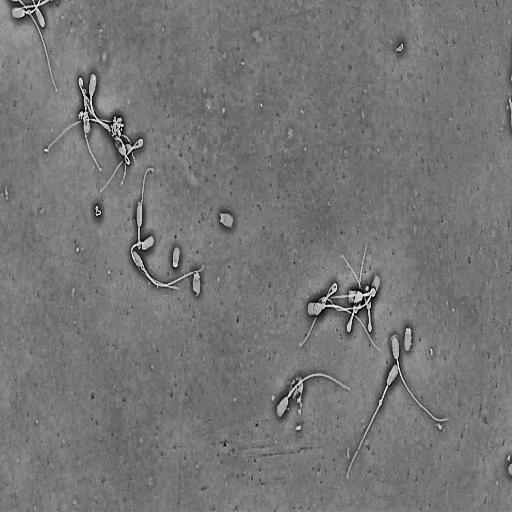dirt-particles: (111, 115, 125, 138), (95, 204, 102, 218)
distal-droplet: (379, 400, 383, 406)
folded-tail: (131, 241, 178, 289), (302, 283, 337, 345), (344, 257, 372, 333), (137, 168, 153, 249), (358, 248, 366, 295), (347, 308, 354, 333), (331, 293, 363, 298), (362, 288, 376, 297)
loose-head: (218, 210, 235, 231), (403, 325, 413, 353), (192, 268, 201, 298), (172, 244, 181, 270)
normal: (345, 362, 399, 480), (390, 334, 449, 422), (275, 370, 352, 420), (307, 301, 381, 353), (314, 274, 381, 320), (131, 249, 206, 289), (131, 232, 181, 290), (341, 254, 373, 334), (345, 245, 367, 333), (135, 167, 154, 253), (313, 281, 339, 315), (326, 287, 373, 304)
proximal-droplet: (321, 303, 325, 309), (141, 265, 145, 270)
